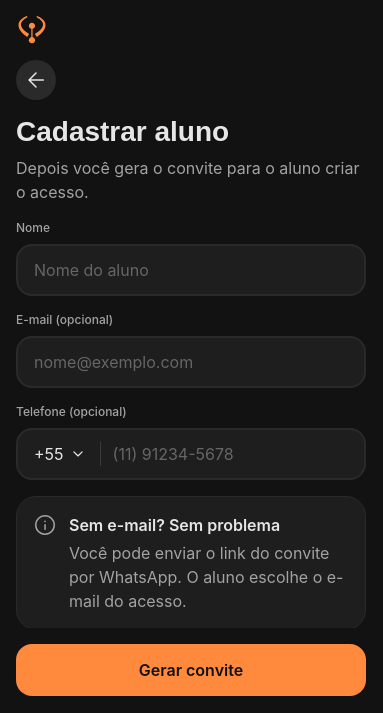
Scenario: Cadastrar aluno (regras 46, 57 e 109) › e-mail que já é de outro aluno dele: erro no campo de e-mail
Type "Rafael Torres" into the field labelled "Nome".
click(191, 270); type("Rafael Torres")  # box [34,246,348,294]
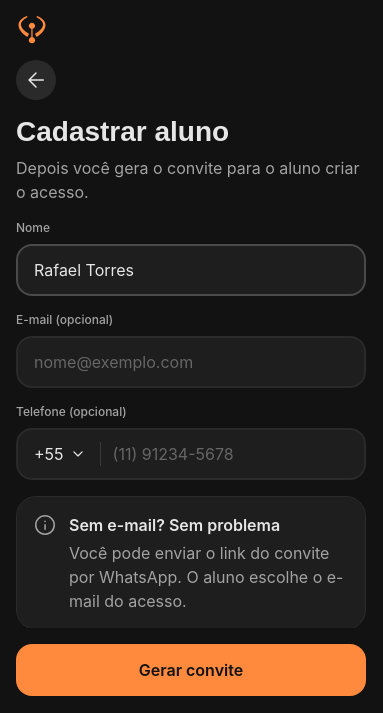
Type "rafael@exemplo.com" into the field labelled "E-mail (opcional)".
click(191, 362); type("rafael@exemplo.com")  # box [34,338,348,386]
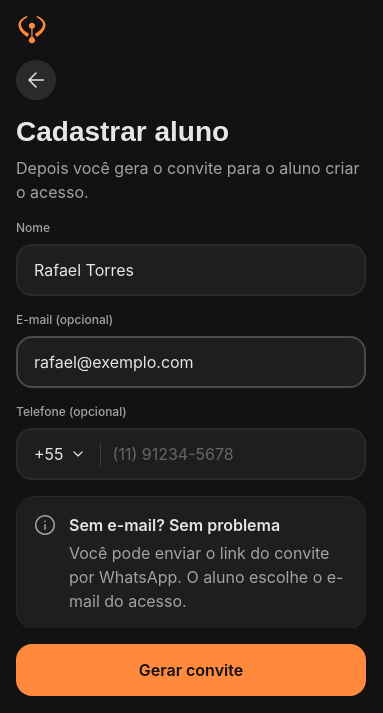
Click the button "Gerar convite".
click(191, 670)  # box [16,644,366,696]
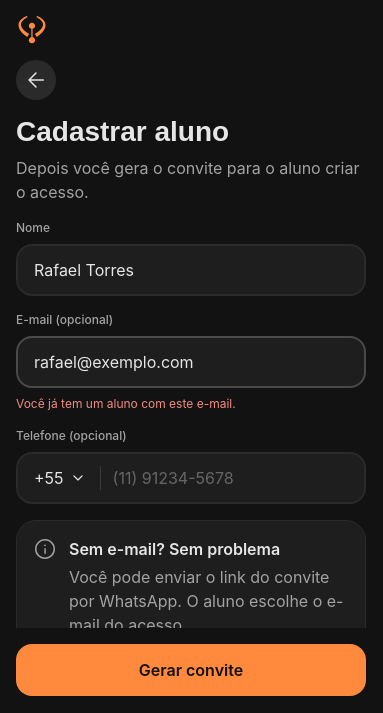
Now the text "Você já tem um aluno com este e-mail." is shown, box [16,396,236,411]
